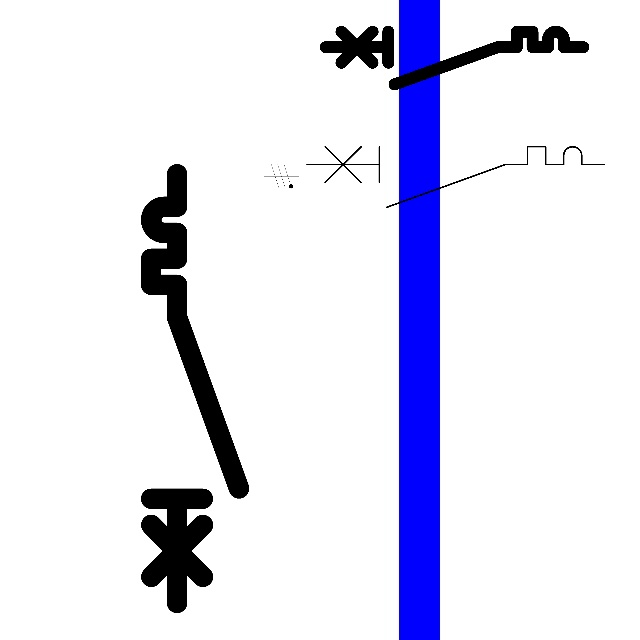interruptor_termomagnetico: (140, 163, 250, 614), (299, 139, 612, 215), (319, 25, 590, 91)
